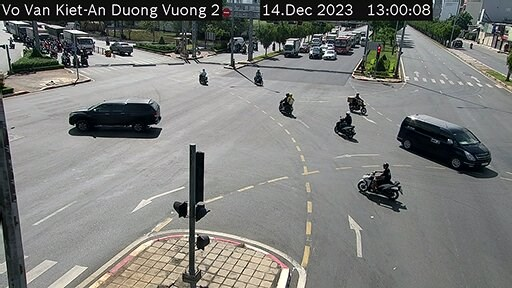car: (394, 104, 493, 170), (75, 97, 166, 124)
motorbike: (354, 163, 403, 202), (341, 90, 368, 114), (277, 91, 295, 114), (247, 67, 263, 90), (334, 113, 356, 129), (196, 66, 211, 88)
truck: (285, 37, 299, 57)
